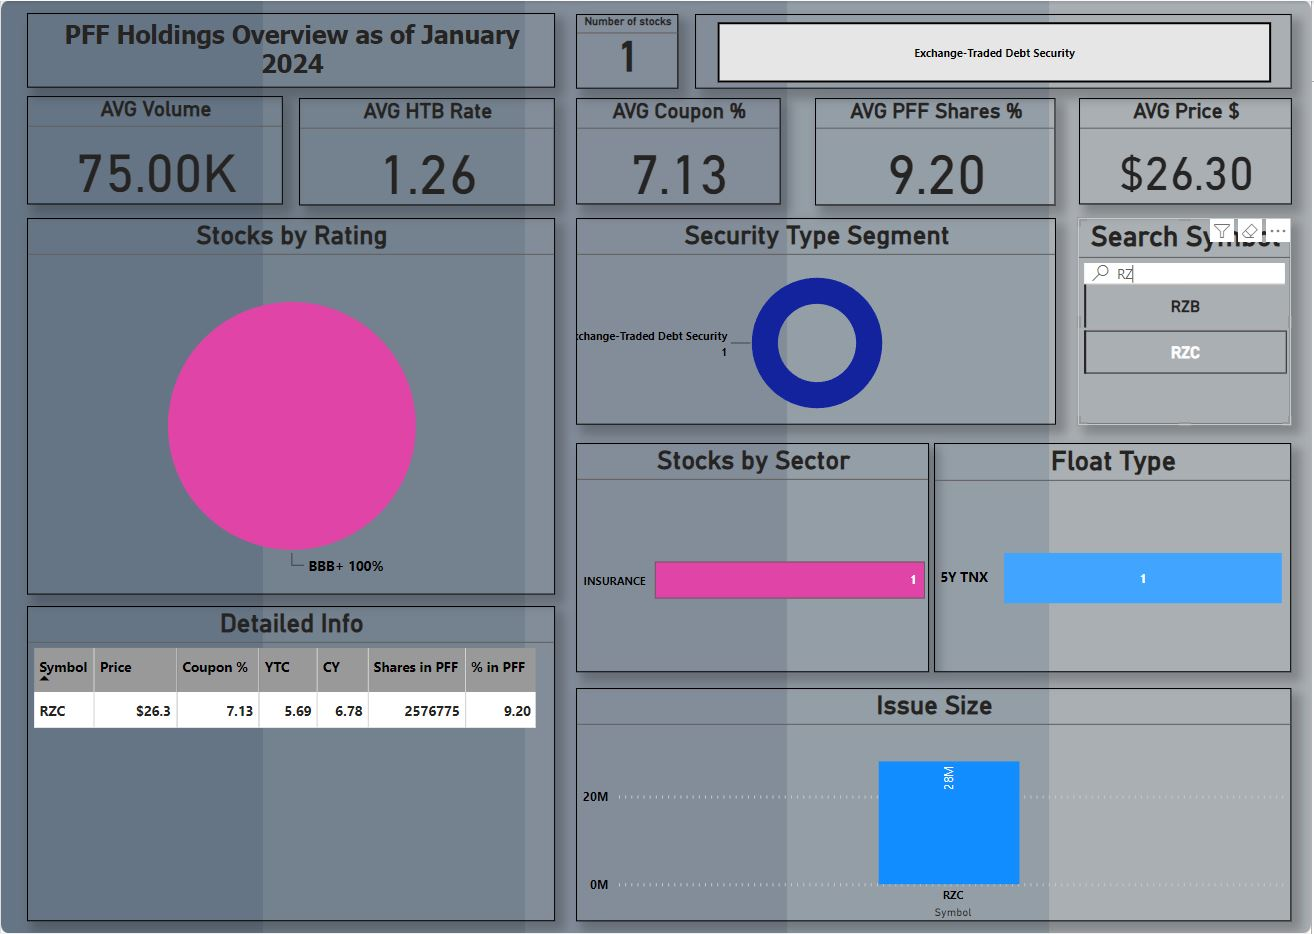

The page's visual inventory and layout, read from the dashboard file:
{"tool":"powerbi","page":{"name":"Page 1","canvas":[1280,911],"ordinal":0},"visuals":[{"type":"card","title":"AVG Volume","fields":{"Values":["Avg(Pff overview - Sheet1.Avg Volume (10 Days))"]},"box":[25.4,92.8,250.1,105.5],"z":0},{"type":"card","title":"AVG HTB Rate","fields":{"Values":["Avg(Pff overview - Sheet1.HTB Rate)"]},"box":[291.2,94.8,250.1,104.5],"z":1000},{"type":"card","title":"AVG Coupon %","fields":{"Values":["Avg(Pff overview - Sheet1.Cou-on)"]},"box":[562.2,94.4,200,104.4],"z":2000},{"type":"card","title":"AVG Price $","fields":{"Values":["Avg(Pff overview - Sheet1.Close)"]},"box":[1053.2,94.4,207.8,104.4],"z":3000},{"type":"card","title":"AVG PFF Shares %","fields":{"Values":["Avg(Pff overview - Sheet1.PFF %)"]},"box":[795.4,94.8,235.5,104.5],"z":4000},{"type":"slicer","fields":{"Values":["Pff overview - Sheet1.Security Ty-e"]},"box":[677.7,12.2,583.3,73.3],"z":5000},{"type":"pieChart","title":"Stocks by Rating ","fields":{"Category":["Pff overview - Sheet1.S&P"],"Y":["CountNonNull(Pff overview - Sheet1.Security Ty-e)"]},"box":[25.2,212.2,515.6,368.3],"z":6000},{"type":"tableEx","title":"Detailed Info","fields":{"Values":["Pff overview - Sheet1.Symbol","Sum(Pff overview - Sheet1.Close)","Sum(Pff overview - Sheet1.Cou-on)","Sum(Pff overview - Sheet1.YTC)","Sum(Pff overview - Sheet1.CY)","Sum(Pff overview - Sheet1.PFF)","Sum(Pff overview - Sheet1.PFF %)"]},"box":[25.3,591.4,515.5,308.3],"z":7000},{"type":"barChart","title":"Stocks by Sector","fields":{"Category":["Pff overview - Sheet1.Sector"],"Y":["CountNonNull(Pff overview - Sheet1.Symbol)"],"Series":["Pff overview - Sheet1.S&P"]},"box":[562.1,432.2,345,223.9],"z":8000},{"type":"donutChart","title":"Security Type Segment","fields":{"Category":["Pff overview - Sheet1.Security Ty-e"],"Y":["CountNonNull(Pff overview - Sheet1.Symbol)"]},"box":[561.8,212,469,202.3],"z":9000},{"type":"clusteredColumnChart","title":"Issue Size","fields":{"Category":["Pff overview - Sheet1.Symbol"],"Y":["Sum(Pff overview - Sheet1.Issue)"]},"box":[562.1,671.6,698.8,227.8],"z":10000},{"type":"textbox","box":[25.4,11.7,515.9,73.3],"z":11000},{"type":"funnel","title":"Float Type","fields":{"Category":["Pff overview - Sheet1.Float Ty-e"],"Y":["CountNonNull(Pff overview - Sheet1.Symbol)"]},"box":[911.6,431.9,348.8,223.8],"z":12000},{"type":"card","title":"Number of stocks","fields":{"Values":["Count(Pff overview - Sheet1.Symbol)"]},"box":[561.8,12.7,99.7,73.3],"z":13000},{"type":"advancedSlicerVisual","title":"Search Symbol","fields":{"Values":["Pff overview - Sheet1.Symbol"]},"box":[1052.3,212,208.1,202.3],"z":13001}]}

Visuals, with their boxes in screenshot pixels (x1, y1, x2, y2), scaled from the page's 1280x911 canvas onto the 1314x934 screenshot:
"AVG Volume" card: <box>26,95,283,203</box>
"AVG HTB Rate" card: <box>299,97,556,204</box>
"AVG Coupon %" card: <box>577,97,782,204</box>
"AVG Price $" card: <box>1081,97,1294,204</box>
"AVG PFF Shares %" card: <box>817,97,1058,204</box>
slicer - Pff overview - Sheet1.Security Ty-e: <box>696,13,1294,88</box>
"Stocks by Rating " pieChart: <box>26,218,555,595</box>
"Detailed Info" tableEx: <box>26,606,555,922</box>
"Stocks by Sector" barChart: <box>577,443,931,673</box>
"Security Type Segment" donutChart: <box>577,217,1058,425</box>
"Issue Size" clusteredColumnChart: <box>577,689,1294,922</box>
textbox: <box>26,12,556,87</box>
"Float Type" funnel: <box>936,443,1294,672</box>
"Number of stocks" card: <box>577,13,679,88</box>
"Search Symbol" advancedSlicerVisual: <box>1080,217,1294,425</box>
